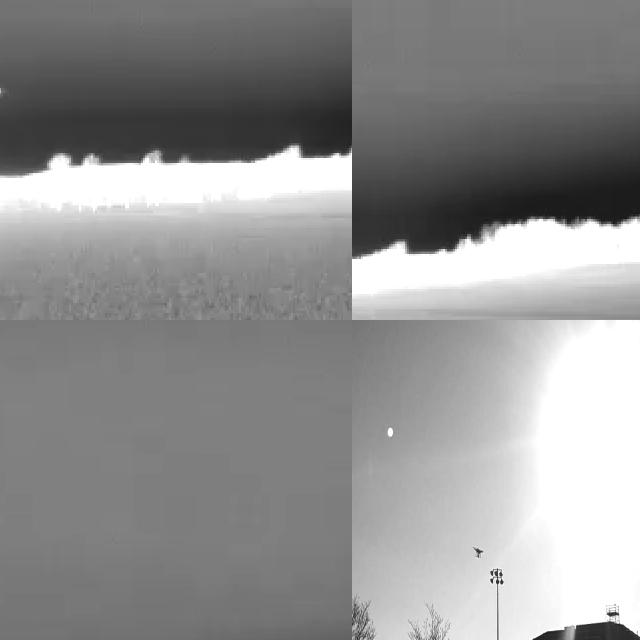1: (0, 75, 14, 112)
drone: (470, 537, 486, 562)
